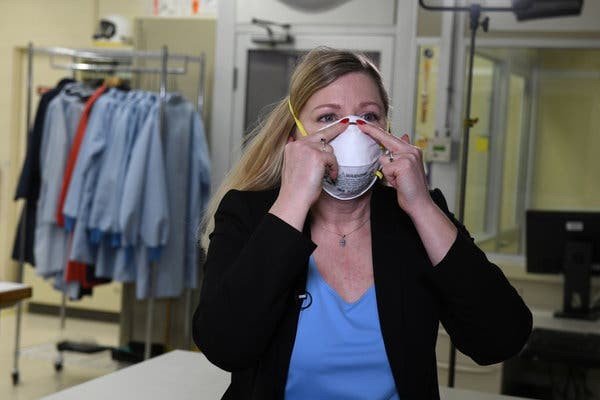n95: (296, 111, 388, 201)
